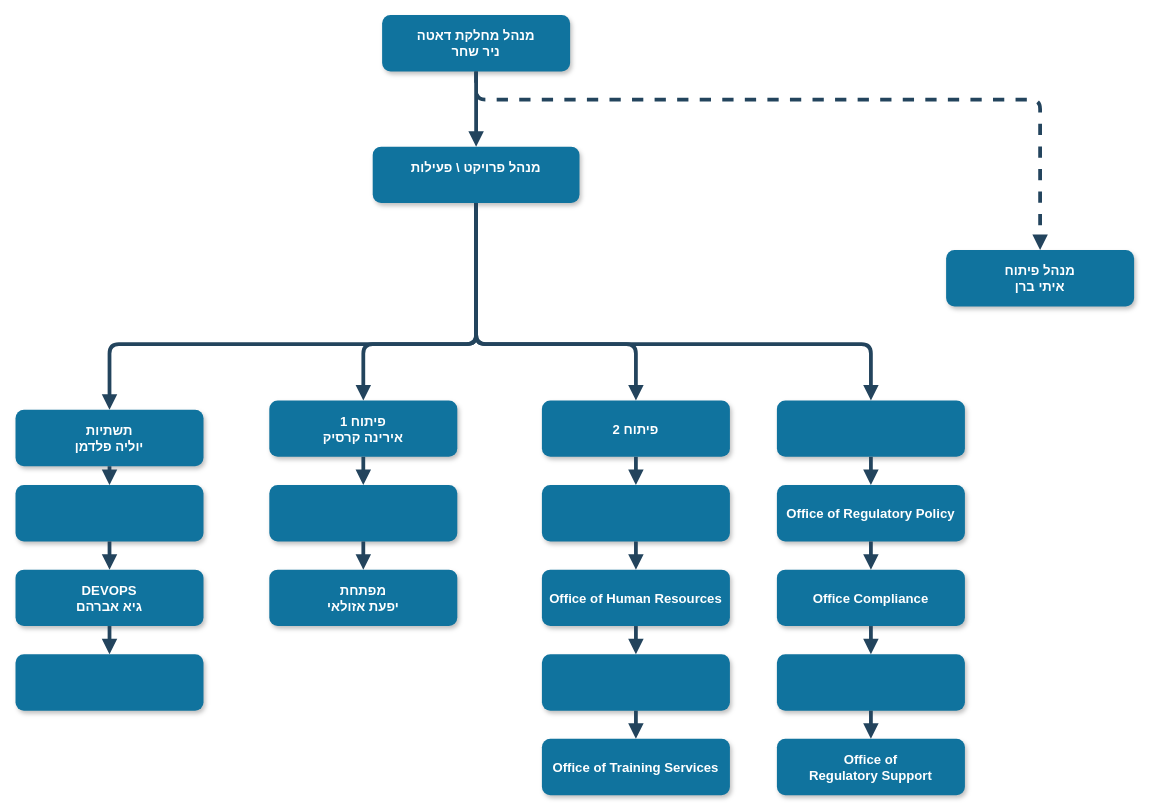
This 1150x810 diagram has some shape labels left out. Here are the shapes that lost their labels. From the top down, the centre of each, then its label:
(871,429): Regulatory and Enforcement Division
(110,514): DEVOPS אנדריי טס
(363,514): מפתחת אלישבע לוי
(636,514): Office of Financial Management
(110,683): DEVOPS אלכס סוקולוב
(636,683): Office of Management
(871,683): Office of Enforcement
